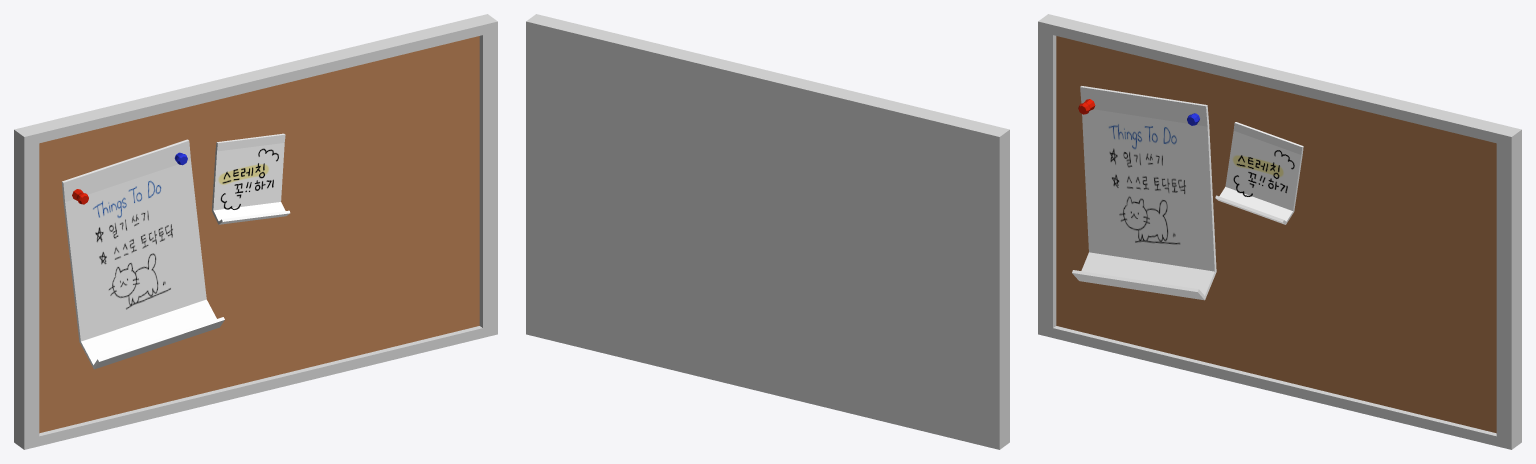
Rendered from board.glb.
The picture shows the model from 3 angles, left to right: view 1: azimuth 30°, elevation 25°; view 2: azimuth 150°, elevation 25°; view 3: azimuth 330°, elevation 25°; orthographic projection.
Parts seen in each view (by area): view 1: Plane.010, Plane.011, Plane.012; view 2: Plane.010; view 3: Plane.010, Plane.011, Plane.012.
Boxes of the visible parts, x1,y1,x2,y2 form: Plane.010: (14, 14, 497, 449); Plane.011: (61, 139, 224, 369); Plane.012: (212, 133, 290, 224); Plane.010: (526, 14, 1009, 449); Plane.010: (1038, 14, 1521, 449); Plane.011: (1072, 86, 1216, 300); Plane.012: (1215, 122, 1303, 224).
Bounding box in the file's own units: 2.26 × 1.43 × 0.2542.
6 materials, 2 textured.
